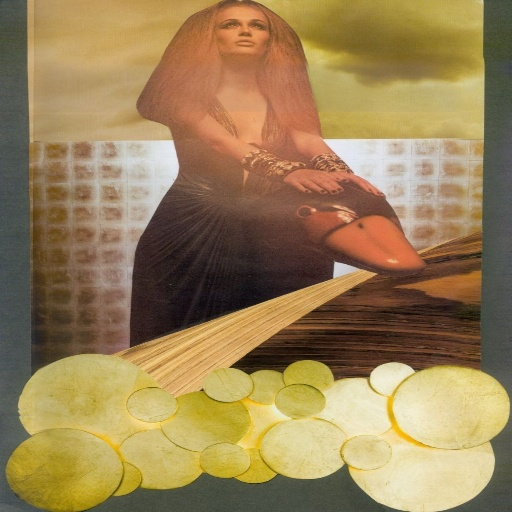hand: (282, 167, 344, 195), (337, 169, 388, 197)
